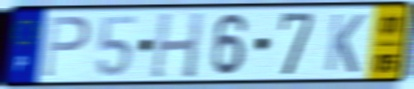5: (94, 13, 138, 78)
6: (211, 12, 250, 78)
7: (277, 11, 315, 78)
H: (149, 10, 206, 80)
K: (323, 12, 367, 76)
P: (40, 14, 92, 80)
